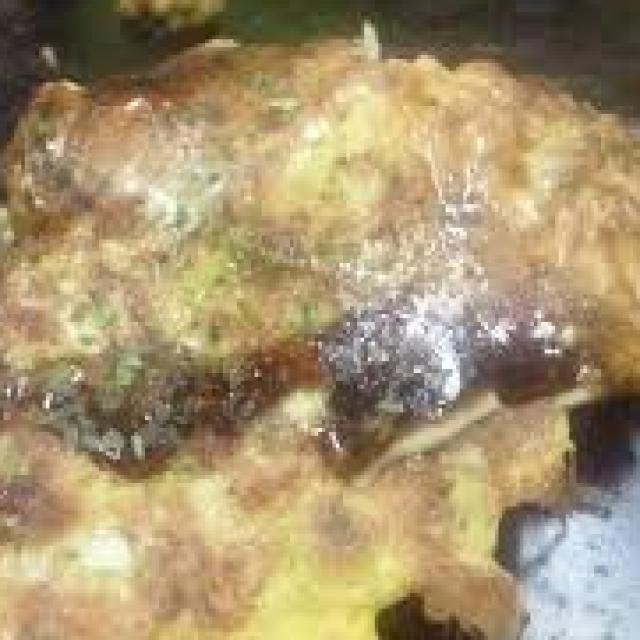inorganic: (9, 51, 593, 604)
